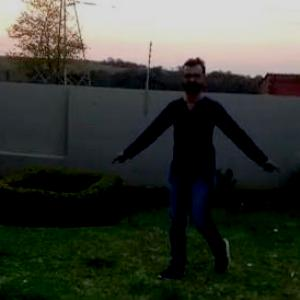land: (134, 68, 255, 246)
